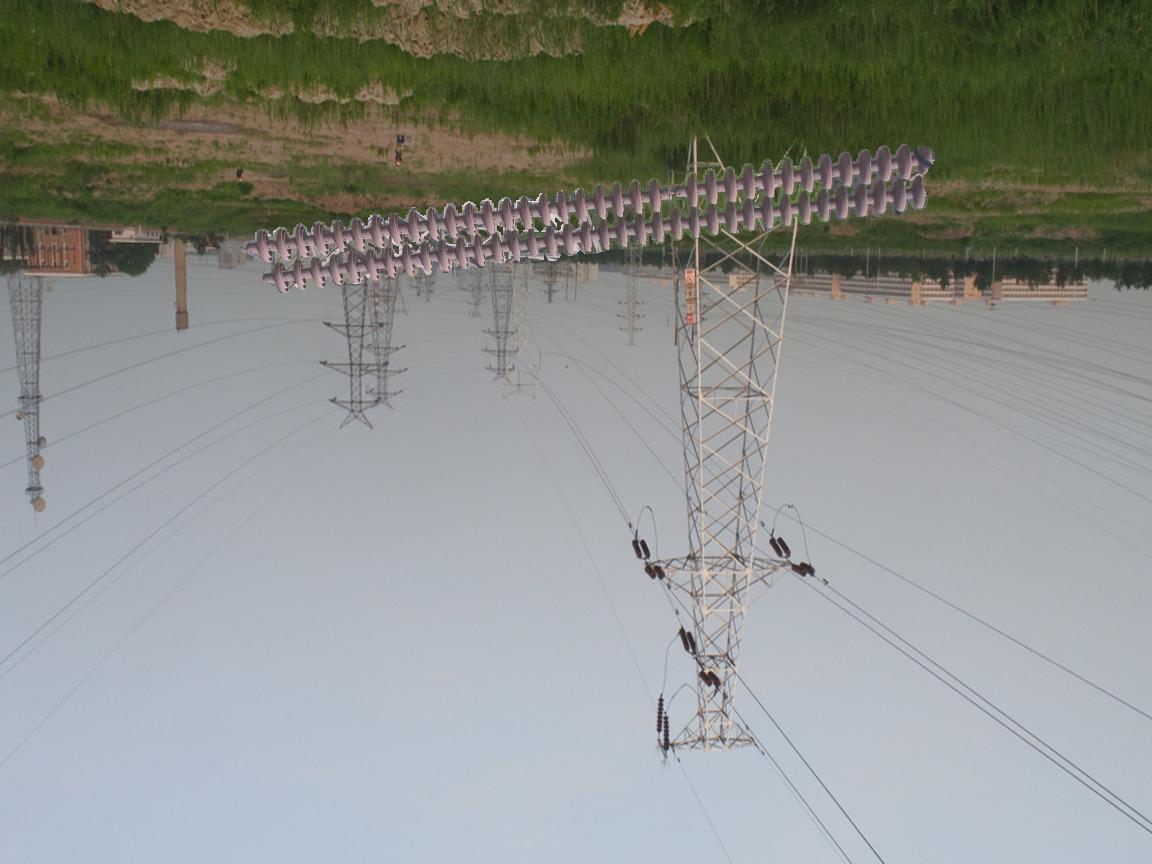insulator: (248, 134, 942, 294)
insulator_stringdrop: (646, 171, 702, 215)
